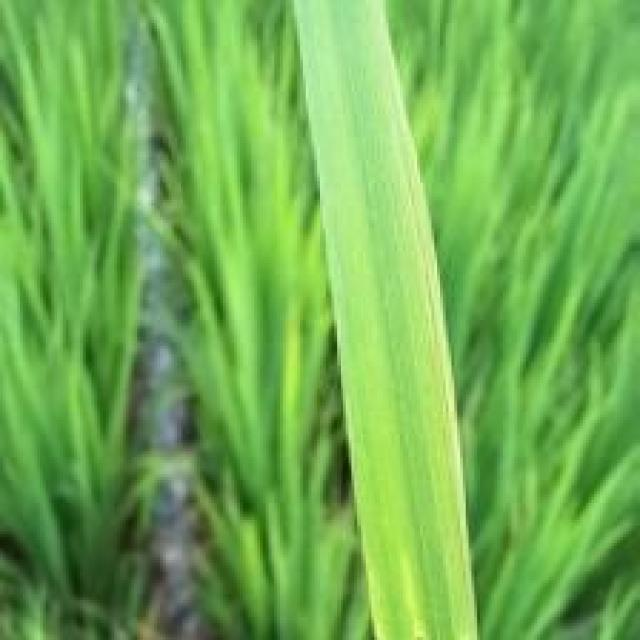HealthyLeaf: (296, 0, 483, 640)
